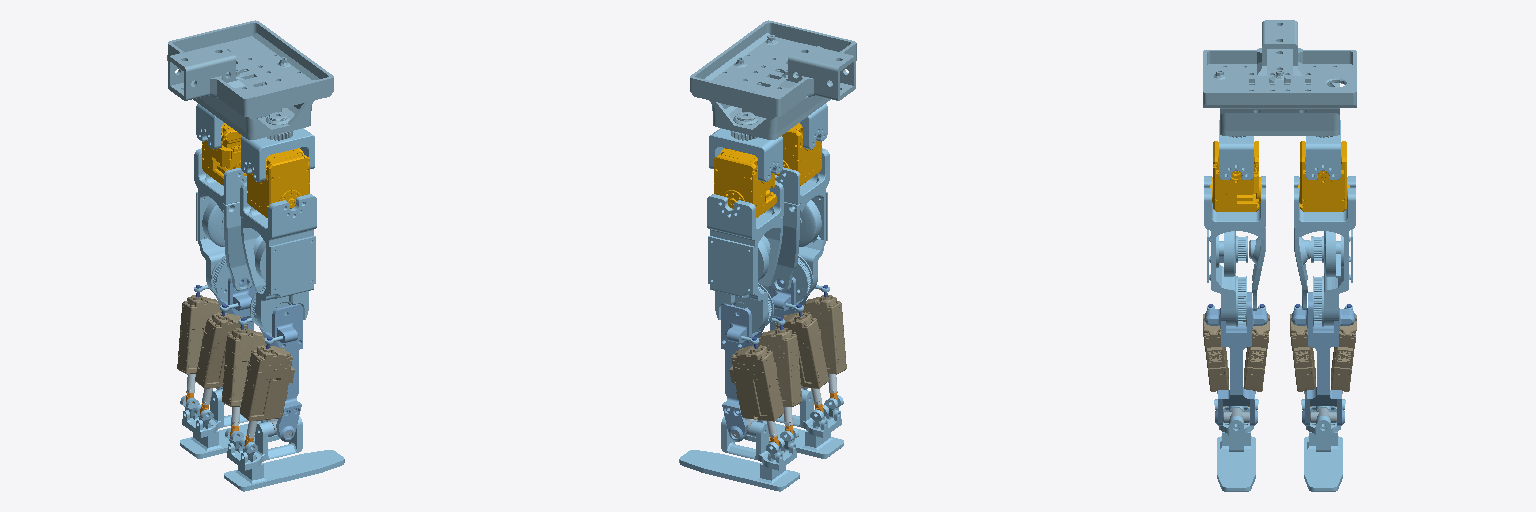
--- Facts derived from the render (not from the file) ---
3 views of the same robot in one strip: view 1: azimuth 30°, elevation 25°; view 2: azimuth 150°, elevation 25°; view 3: azimuth 270°, elevation 25° (orthographic).
Robot: base_legs — 38 links, 37 joints (32 revolute, 4 prismatic, 1 fixed); root link base_link; default pose: every joint at zero.
Links seen in each view (by area): view 1: hip_link, right_hip_pitch_link, left_hip_pitch_link, ank_roll_link_2, 12lf_4, hip_roll_link_2, right_calf_link, ank_roll_link, 12lf_2, 12lf_3, 12lf, hip_yaw_link_2 (+3 smaller); view 2: hip_link, left_hip_pitch_link, right_hip_pitch_link, ank_roll_link, 12lf, hip_roll_link, left_calf_link, ank_roll_link_2, 12lf_3, 12lf_2, 12lf_4, hip_yaw_link (+3 smaller); view 3: hip_link, left_hip_pitch_link, right_hip_pitch_link, left_calf_link, right_calf_link, ank_roll_link, ank_roll_link_2, hip_roll_link, hip_roll_link_2, hip_yaw_link_2, hip_yaw_link, 12lf_2 (+3 smaller).
Link boxes in pixels (left/top/right/bottom): hip_link: left=167, top=20, right=333, bottom=140; right_hip_pitch_link: left=240, top=182, right=316, bottom=333; left_hip_pitch_link: left=194, top=148, right=252, bottom=302; ank_roll_link_2: left=224, top=416, right=344, bottom=491; 12lf_4: left=240, top=345, right=294, bottom=421; hip_roll_link_2: left=247, top=148, right=309, bottom=217; right_calf_link: left=259, top=304, right=302, bottom=441; ank_roll_link: left=180, top=389, right=279, bottom=458; 12lf_2: left=195, top=312, right=247, bottom=388; 12lf_3: left=222, top=327, right=266, bottom=406; 12lf: left=177, top=295, right=221, bottom=374; hip_yaw_link_2: left=241, top=128, right=314, bottom=181; hip_link: left=690, top=20, right=856, bottom=140; left_hip_pitch_link: left=707, top=182, right=783, bottom=333; right_hip_pitch_link: left=771, top=148, right=829, bottom=302; ank_roll_link: left=679, top=416, right=799, bottom=491; 12lf: left=729, top=345, right=783, bottom=421; hip_roll_link: left=714, top=148, right=776, bottom=217; left_calf_link: left=721, top=304, right=764, bottom=441; ank_roll_link_2: left=744, top=389, right=843, bottom=458; 12lf_3: left=776, top=312, right=828, bottom=388; 12lf_2: left=757, top=327, right=801, bottom=406; 12lf_4: left=802, top=295, right=846, bottom=374; hip_yaw_link: left=709, top=128, right=782, bottom=181; hip_link: left=1203, top=20, right=1356, bottom=137; left_hip_pitch_link: left=1294, top=176, right=1355, bottom=326; right_hip_pitch_link: left=1204, top=176, right=1265, bottom=326; left_calf_link: left=1292, top=292, right=1354, bottom=425; right_calf_link: left=1205, top=292, right=1267, bottom=425; ank_roll_link: left=1304, top=406, right=1342, bottom=491; ank_roll_link_2: left=1217, top=406, right=1255, bottom=491; hip_roll_link: left=1298, top=141, right=1349, bottom=211; hip_roll_link_2: left=1210, top=141, right=1261, bottom=211; hip_yaw_link_2: left=1219, top=120, right=1253, bottom=179; hip_yaw_link: left=1306, top=120, right=1340, bottom=179; 12lf_2: left=1290, top=314, right=1315, bottom=391.
Size in the robot's own frame: 0.1234 by 0.1208 by 0.3493 metres.
Meshes: 37 distinct files referenced, 37 mesh visuals loaded (37 binary STL).

The robot description file, URDF, robot "base_legs":
<robot name="base_legs">  
  <mujoco><compiler strippath="false" balanceinertia="true" discardvisual="false" /></mujoco><link name="base_link" />  
  <joint name="base_link_to_base" type="fixed">    
    <parent link="base_link" />    
    <child link="hip_link" />    
    <origin rpy="0.0 0 0" xyz="0 0 0" />    
  </joint>  
  <link name="hip_link">    
    <visual>      
      <origin xyz="0 0 0" rpy="0 -0 0" />      
      <geometry>        
        <mesh filename="../assemblies/no_body/meshes/hip_link_visual.stl" />        
      </geometry>      
      <material name="hip_link_material">        
        <color rgba="0.60265235106909242901 0.7475818661971369572 0.82292492068132760963 1.0" />        
      </material>      
    </visual>    
    <collision>      
      <origin xyz="0 0 0" rpy="0 -0 0" />      
      <geometry>        
        <mesh filename="../assemblies/no_body/meshes/hip_link_collision.stl" />        
      </geometry>      
    </collision>    
    <inertial>      
      <origin xyz="-0.01440352333151279085 -0.00023164401215059715849 0.31153288519557342795" rpy="0 0 0" />      
      <mass value="0.1326329205818372603" />      
      <inertia ixx="0.00012163093315383989741" ixy="1.4038303149257438203e-07" ixz="1.0872278951925664343e-05" iyy="8.4970137932102799945e-05" iyz="3.874082128926956186e-07" izz="0.00015647103471607302027" />      
    </inertial>    
  </link>  

  <joint name="left_hip_yaw" type="revolute">    
    <origin xyz="-0.0063999999999997730579 0.033999999999999780398 0.28550000000000019806" rpy="1.2173498077223837207e-16 -0 1.3877787807345010561e-17" />    
    <parent link="hip_link" />    
    <child link="hip_yaw_link" />    
    <axis xyz="0 0 1" />    
    <limit effort="1" velocity="20" lower="-1.570796326794896558" upper="1.570796326794896558" />    
    <joint_properties friction="0.0" />    
  </joint>  

  <joint name="right_hip_yaw" type="revolute">    
    <origin xyz="-0.0063999999999996715766 -0.034000000000000092648 0.28550000000000014255" rpy="1.2173498077030393722e-16 -4.683327753701002654e-30 2.5887568767631957634e-14" />    
    <parent link="hip_link" />    
    <child link="hip_yaw_link_2" />    
    <axis xyz="0 0 1" />    
    <limit effort="1" velocity="20" lower="-1.570796326794896558" upper="1.570796326794896558" />    
    <joint_properties friction="0.0" />    
  </joint>  


<link name="hip_yaw_link">    
    <visual>      
      <origin xyz="0 0 0" rpy="0 -0 0" />      
      <geometry>        
        <mesh filename="../assemblies/left_3R+RH5_leg/meshes/left_hip_yaw_link_visual.stl" />        
      </geometry>      
      <material name="hip_yaw_link_material">        
        <color rgba="0.61568627450980395466 0.81176470588235294379 0.92941176470588238168 1.0" />        
      </material>      
    </visual>    
    <collision>      
      <origin xyz="0 0 0" rpy="0 -0 0" />      
      <geometry>        
        <mesh filename="../assemblies/left_3R+RH5_leg/meshes/left_hip_yaw_link_collision.stl" />        
      </geometry>      
    </collision>    
    <inertial>      
      <origin xyz="-5.5101789230161932459e-19 -4.987496519892330868e-19 -0.0098390489054830127663" rpy="0 0 0" />      
      <mass value="0.0090258837370979175946" />      
      <inertia ixx="1.3230458239086465149e-06" ixy="-3.3592249637948231893e-24" ixz="-1.1251788840973426872e-52" iyy="3.8408510960331422723e-06" iyz="2.3044956050358332095e-34" izz="3.8721396285793907821e-06" />      
    </inertial>    
  </link>  

  <link name="hip_roll_link">    
    <visual>      
      <origin xyz="0 0 0" rpy="0 -0 0" />      
      <geometry>        
        <mesh filename="../assemblies/left_3R+RH5_leg/meshes/left_hip_roll_link_visual.stl" />        
      </geometry>      
      <material name="hip_roll_link_material">        
        <color rgba="0.95018735644455865064 0.70678927200428420807 0.061612079402596699185 1.0" />        
      </material>      
    </visual>    
    <collision>      
      <origin xyz="0 0 0" rpy="0 -0 0" />      
      <geometry>        
        <mesh filename="../assemblies/left_3R+RH5_leg/meshes/left_hip_roll_link_collision.stl" />        
      </geometry>      
    </collision>    
    <inertial>      
      <origin xyz="-0.012000151133960529001 -0.00049588831385038068152 -0.018504019244504718578" rpy="0 0 0" />      
      <mass value="0.098012391483528679692" />      
      <inertia ixx="2.0221748766306297228e-05" ixy="-4.1552068244097566575e-08" ixz="-4.1225592188060038692e-08" iyy="2.7358099958307017163e-05" iyz="-5.0935731752381958541e-07" izz="2.7358069524722873844e-05" />      
    </inertial>    
  </link>  

  <link name="left_hip_pitch_link">    
    <visual>      
      <origin xyz="0 0 0" rpy="0 -0 0" />      
      <geometry>        
        <mesh filename="../assemblies/left_3R+RH5_leg/meshes/left_hip_pitch_link_visual.stl" />        
      </geometry>      
      <material name="left_hip_pitch_link_material">        
        <color rgba="0.61653602481865321661 0.80730351676089540103 0.92176401192624057845 1.0" />        
      </material>      
    </visual>    
    <collision>      
      <origin xyz="0 0 0" rpy="0 -0 0" />      
      <geometry>        
        <mesh filename="../assemblies/left_3R+RH5_leg/meshes/left_hip_pitch_link_collision.stl" />        
      </geometry>      
    </collision>    
    <inertial>      
      <origin xyz="-0.00021625089587036150818 0.053000240769318827938 0.014794279324098446454" rpy="0 0 0" />      
      <mass value="0.094115707917386950965" />      
      <inertia ixx="6.316384435944080993e-05" ixy="4.2226893167611225534e-07" ixz="-1.5236088146924364196e-07" iyy="2.1766716876463621921e-05" iyz="-1.4946539861164846195e-06" izz="6.2872441725695250685e-05" />      
    </inertial>    
  </link>  

  <link name="left_calf_link">    
    <visual>      
      <origin xyz="0 0 0" rpy="0 -0 0" />      
      <geometry>        
        <mesh filename="../assemblies/left_3R+RH5_leg/meshes/left_calf_link_visual.stl" />        
      </geometry>      
      <material name="left_calf_link_material">        
        <color rgba="0.55182138457441176627 0.7293668709690939167 0.87615813098181816176 1.0" />        
      </material>      
    </visual>    
    <collision>      
      <origin xyz="0 0 0" rpy="0 -0 0" />      
      <geometry>        
        <mesh filename="../assemblies/left_3R+RH5_leg/meshes/left_calf_link_collision.stl" />        
      </geometry>      
    </collision>    
    <inertial>      
      <origin xyz="-0.0038784319950641780832 -0.043110203474640458599 0.008168899779404440592" rpy="0 0 0" />      
      <mass value="0.016616268752102307527" />      
      <inertia ixx="1.5958212392253868486e-05" ixy="-2.2918088445891347294e-07" ixz="5.9921361723212020254e-09" iyy="2.0657945480054530971e-06" iyz="2.8475122223882865991e-08" izz="1.5100754419726926479e-05" />      
    </inertial>    
  </link>  

  <link name="ank_pitch_link">    
    <visual>      
      <origin xyz="0 0 0" rpy="0 -0 0" />      
      <geometry>        
        <mesh filename="../assemblies/left_3R+RH5_leg/meshes/left_ank_pitch_link_visual.stl" />        
      </geometry>      
      <material name="ank_pitch_link_material">        
        <color rgba="0.63189161126160275916 0.72668668793540891482 0.78356373393969258601 1.0" />        
      </material>      
    </visual>    
    <collision>      
      <origin xyz="0 0 0" rpy="0 -0 0" />      
      <geometry>        
        <mesh filename="../assemblies/left_3R+RH5_leg/meshes/left_ank_pitch_link_collision.stl" />        
      </geometry>      
    </collision>    
    <inertial>      
      <origin xyz="4.0269684924332414137e-08 0.00059528282566768985547 -0.014599922383890571662" rpy="0 0 0" />      
      <mass value="0.0042238381753791605713" />      
      <inertia ixx="4.3705254067379651325e-07" ixy="1.6834346513414585352e-13" ixz="1.6428822287382144103e-12" iyy="3.9782741364642033597e-07" iyz="2.0919268320923642454e-14" izz="8.8858574534542989745e-08" />      
    </inertial>    
  </link>  

  <link name="ank_roll_link">    
    <visual>      
      <origin xyz="0 0 0" rpy="0 -0 0" />      
      <geometry>        
        <mesh filename="../assemblies/left_3R+RH5_leg/meshes/left_ank_roll_link_visual.stl" />        
      </geometry>      
      <material name="ank_roll_link_material">        
        <color rgba="0.61568627450980395466 0.81176470588235294379 0.92941176470588238168 1.0" />        
      </material>      
    </visual>    
    <collision>      
      <origin xyz="0 0 0" rpy="0 -0 0" />      
      <geometry>        
        <mesh filename="../assemblies/left_3R+RH5_leg/meshes/left_ank_roll_link_collision.stl" />        
      </geometry>      
    </collision>    
    <inertial>      
      <origin xyz="-6.3661537538722950148e-10 0.027240102316353702328 0.0019830147448535399152" rpy="0 0 0" />      
      <mass value="0.013844478784760248444" />      
      <inertia ixx="1.0150902309234930825e-05" ixy="6.8603302694880716568e-14" ixz="-3.2605547317656671208e-13" iyy="8.66361166634314672e-06" iyz="-7.8151778926544794902e-07" izz="2.8991570356470334528e-06" />      
    </inertial>    
  </link>  

  <link name="ank_rr_link">    
    <visual>      
      <origin xyz="0 0 0" rpy="0 -0 0" />      
      <geometry>        
        <mesh filename="../assemblies/left_3R+RH5_leg/meshes/left_ank_rr_link_visual.stl" />        
      </geometry>      
      <material name="ank_rr_link_material">        
        <color rgba="0.61568627450980395466 0.81176470588235294379 0.92941176470588238168 1.0" />        
      </material>      
    </visual>    
    <collision>      
      <origin xyz="0 0 0" rpy="0 -0 0" />      
      <geometry>        
        <mesh filename="../assemblies/left_3R+RH5_leg/meshes/left_ank_rr_link_collision.stl" />        
      </geometry>      
    </collision>    
    <inertial>      
      <origin xyz="3.4593503690053823546e-05 0.0062999445222072123982 -0.0019000000000000060677" rpy="0 0 0" />      
      <mass value="0.00044289790445047673732" />      
      <inertia ixx="9.0894755004835240223e-09" ixy="-5.6689994077039805565e-11" ixz="1.0879024115046993894e-14" iyy="8.3785129146959889042e-09" iyz="9.5636730547090625513e-32" izz="1.3107013728801491474e-08" />      
    </inertial>    
  </link>  

  <link name="12lf_rod_end">    
    <visual>      
      <origin xyz="0 0 0" rpy="0 -0 0" />      
      <geometry>        
        <mesh filename="../assemblies/left_3R+RH5_leg/meshes/left_12lf_rod_end_visual.stl" />        
      </geometry>      
      <material name="12lf_rod_end_material">        
        <color rgba="0.92771758928836534075 0.61049283053223002415 0.2184765849058516729 1.0" />        
      </material>      
    </visual>    
    <collision>      
      <origin xyz="0 0 0" rpy="0 -0 0" />      
      <geometry>        
        <mesh filename="../assemblies/left_3R+RH5_leg/meshes/left_12lf_rod_end_collision.stl" />        
      </geometry>      
    </collision>    
    <inertial>      
      <origin xyz="-4.4735199263164480729e-11 0.0038422185938245998447 -0.0020064384187209387093" rpy="0 0 0" />      
      <mass value="0.00085420491177815905965" />      
      <inertia ixx="1.1840985264406780776e-08" ixy="-2.0225978109188480936e-16" ixz="9.2606420203077699125e-16" iyy="3.354962157679717301e-09" iyz="7.4535631381837453459e-12" izz="1.270352225441995511e-08" />      
    </inertial>    
  </link>  

  <joint name="left_ank_R21" type="revolute">    
    <origin xyz="0.0020999999999999977018 0.0099999999999998978595 -0.0018999999999999919731" rpy="-1.570796326794896558 1.427444247264781696 -1.5707963267949185404" />    
    <parent link="ank_rr_link" />    
    <child link="12lf_rod_end" />    
    <axis xyz="0 0 1" />    
    <limit effort="1" velocity="20" lower="-1.570796326794896558" upper="1.570796326794896558" />    
    <joint_properties friction="0.0" />    
  </joint>  

  <joint name="left_ank_R11" type="revolute">    
    <origin xyz="-0.010000000000000000208 0.01249999999999990008 -0.028000000000000010991" rpy="3.1415926535897775729 -1.2028245921984228645e-15 -0.10217761180348046424" />    
    <parent link="ank_roll_link" />    
    <child link="ank_rr_link" />    
    <axis xyz="0 0 1" />    
    <limit effort="1" velocity="20" lower="-1.570796326794896558" upper="1.570796326794896558" />    
    <joint_properties friction="0.0" />    
  </joint>  

  <link name="ank_rr_link_2">    
    <visual>      
      <origin xyz="0 0 0" rpy="0 -0 0" />      
      <geometry>        
        <mesh filename="../assemblies/left_3R+RH5_leg/meshes/left_ank_rr_link_2_visual.stl" />        
      </geometry>      
      <material name="ank_rr_link_2_material">        
        <color rgba="0.61568627450980395466 0.81176470588235294379 0.92941176470588238168 1.0" />        
      </material>      
    </visual>    
    <collision>      
      <origin xyz="0 0 0" rpy="0 -0 0" />      
      <geometry>        
        <mesh filename="../assemblies/left_3R+RH5_leg/meshes/left_ank_rr_link_2_collision.stl" />        
      </geometry>      
    </collision>    
    <inertial>      
      <origin xyz="3.4593503690046918534e-05 -0.0062999445222072132655 -0.0018999999999999986951" rpy="0 0 0" />      
      <mass value="0.00044289790445047673732" />      
      <inertia ixx="9.089475500483527331e-09" ixy="5.6689994077039857264e-11" ixz="-1.0879024115046995471e-14" iyy="8.3785129146959922129e-09" iyz="2.9873436245068874165e-33" izz="1.3107013728801491474e-08" />      
    </inertial>    
  </link>  

  <link name="12lf_rod_end_2">    
    <visual>      
      <origin xyz="0 0 0" rpy="0 -0 0" />      
      <geometry>        
        <mesh filename="../assemblies/left_3R+RH5_leg/meshes/left_12lf_rod_end_2_visual.stl" />        
      </geometry>      
      <material name="12lf_rod_end_2_material">        
        <color rgba="0.92771758928836534075 0.61049283053223002415 0.2184765849058516729 1.0" />        
      </material>      
    </visual>    
    <collision>      
      <origin xyz="0 0 0" rpy="0 -0 0" />      
      <geometry>        
        <mesh filename="../assemblies/left_3R+RH5_leg/meshes/left_12lf_rod_end_2_collision.stl" />        
      </geometry>      
    </collision>    
    <inertial>      
      <origin xyz="-4.4735203354349371173e-11 0.003842218593824546502 -0.0020064384187209456482" rpy="0 0 0" />      
      <mass value="0.00085420491177815905965" />      
      <inertia ixx="1.1840985264406787394e-08" ixy="-2.0225978433757152935e-16" ixz="9.2606419955770456148e-16" iyy="3.3549621576797272272e-09" iyz="7.453563138182895547e-12" izz="1.2703522254419979925e-08" />      
    </inertial>    
  </link>  

  <joint name="left_ank_R22" type="revolute">    
    <origin xyz="0.0020999999999999977018 -0.0099999999999999811262 -0.0018999999999999919731" rpy="-1.570796326794896558 -1.4274442651028091955 -1.5707963267949247577" />    
    <parent link="ank_rr_link_2" />    
    <child link="12lf_rod_end_2" />    
    <axis xyz="0 0 1" />    
    <limit effort="1" velocity="20" lower="-1.570796326794896558" upper="1.570796326794896558" />    
    <joint_properties friction="0.0" />    
  </joint>  

  <joint name="left_ank_R12" type="revolute">    
    <origin xyz="0.010000000000000001943 0.012499999999999955591 -0.028000000000000004052" rpy="3.1415926535897895633 4.4869794467973275651e-15 -3.0395375511758455644" />    
    <parent link="ank_roll_link" />    
    <child link="ank_rr_link_2" />    
    <axis xyz="0 0 1" />    
    <limit effort="1" velocity="20" lower="-1.570796326794896558" upper="1.570796326794896558" />    
    <joint_properties friction="0.0" />    
  </joint>  

  <joint name="left_ank_roll" type="revolute">    
    <origin xyz="3.8857805861880478915e-16 -0.0060999999999999795705 -0.014599999999999386038" rpy="-1.5707963267948443775 -1.5707963267947531172 0" />    
    <parent link="ank_pitch_link" />    
    <child link="ank_roll_link" />    
    <axis xyz="0 0 1" />    
    <limit effort="1" velocity="20" lower="-1.570796326794896558" upper="1.570796326794896558" />    
    <joint_properties friction="0.0" />    
  </joint>  

  <joint name="left_ank_pitch" type="revolute">    
    <origin xyz="1.423878333410664658e-18 -0.10000000000000000555 -0.0061999999999999989148" rpy="-3.1415926535897842342 8.6597395925459892621e-15 -1.5707963267949183184" />    
    <parent link="left_calf_link" />    
    <child link="ank_pitch_link" />    
    <axis xyz="0 0 1" />    
    <limit effort="1" velocity="20" lower="-1.570796326794896558" upper="1.570796326794896558" />    
    <joint_properties friction="0.0" />    
  </joint>  

  <link name="ball_joint_container">    
    <visual>      
      <origin xyz="0 0 0" rpy="0 -0 0" />      
      <geometry>        
        <mesh filename="../assemblies/left_3R+RH5_leg/meshes/left_ball_joint_container_visual.stl" />        
      </geometry>      
      <material name="ball_joint_container_material">        
        <color rgba="0.61568627450980395466 0.81176470588235294379 0.92941176470588238168 1.0" />        
      </material>      
    </visual>    
    <collision>      
      <origin xyz="0 0 0" rpy="0 -0 0" />      
      <geometry>        
        <mesh filename="../assemblies/left_3R+RH5_leg/meshes/left_ball_joint_container_collision.stl" />        
      </geometry>      
    </collision>    
    <inertial>      
      <origin xyz="4.7221442975711524242e-19 2.7634000224781994773e-17 -0.0097125341669083431473" rpy="0 0 0" />      
      <mass value="4.803735642533054869e-05" />      
      <inertia ixx="7.1865480628741666366e-10" ixy="2.2082883359209331434e-26" ixz="-6.7686126584238005107e-39" iyy="8.475420427718555978e-10" iyz="4.0476499960716035532e-39" izz="1.8625314111651911712e-10" />      
    </inertial>    
  </link>  

  <link name="ball_joint_ball">    
    <visual>      
      <origin xyz="0 0 0" rpy="0 -0 0" />      
      <geometry>        
        <mesh filename="../assemblies/left_3R+RH5_leg/meshes/left_ball_joint_ball_visual.stl" />        
      </geometry>      
      <material name="ball_joint_ball_material">        
        <color rgba="0.3291302810242056065 0.44310466418644928188 0.69204871161977121741 1.0" />        
      </material>      
    </visual>    
    <collision>      
      <origin xyz="0 0 0" rpy="0 -0 0" />      
      <geometry>        
        <mesh filename="../assemblies/left_3R+RH5_leg/meshes/left_ball_joint_ball_collision.stl" />        
      </geometry>      
    </collision>    
    <inertial>      
      <origin xyz="-3.5282352022158340034e-17 -0.0010308669810015907986 3.4484745656648436569e-20" rpy="0 0 0" />      
      <mass value="4.4053796295264630609e-05" />      
      <inertia ixx="3.1285011349692468636e-10" ixy="1.1835109023980632545e-25" ixz="1.2294513601043791409e-24" iyy="6.2569568612794312656e-11" iyz="-1.4479264606251061365e-24" izz="3.1285321460375216736e-10" />      
    </inertial>    
  </link>  

  <link name="12lf">    
    <visual>      
      <origin xyz="0 0 0" rpy="0 -0 0" />      
      <geometry>        
        <mesh filename="../assemblies/left_3R+RH5_leg/meshes/left_12lf_visual.stl" />        
      </geometry>      
      <material name="12lf_material">        
        <color rgba="0.62004392100736027693 0.58836684613512635345 0.49897069021535678246 1.0" />        
      </material>      
    </visual>    
    <collision>      
      <origin xyz="0 0 0" rpy="0 -0 0" />      
      <geometry>        
        <mesh filename="../assemblies/left_3R+RH5_leg/meshes/left_12lf_collision.stl" />        
      </geometry>      
    </collision>    
    <inertial>      
      <origin xyz="0.0049084207243747877275 -0.00013802439943545668035 -0.02994700357716128386" rpy="0 0 0" />      
      <mass value="0.044782197696050352054" />      
      <inertia ixx="1.5260128421323247559e-05" ixy="2.2955773687025559146e-08" ixz="-8.1364204003970836231e-08" iyy="1.8188469778964219811e-05" iyz="-5.5542240843071426163e-08" izz="5.1496273901760187844e-06" />      
    </inertial>    
  </link>  

  <link name="12lf_rod">    
    <visual>      
      <origin xyz="0 0 0" rpy="0 -0 0" />      
      <geometry>        
        <mesh filename="../assemblies/left_3R+RH5_leg/meshes/left_12lf_rod_visual.stl" />        
      </geometry>      
      <material name="12lf_rod_material">        
        <color rgba="0.80250260812861884396 0.89340612183512713163 0.94491811293548189088 1.0" />        
      </material>      
    </visual>    
    <collision>      
      <origin xyz="0 0 0" rpy="0 -0 0" />      
      <geometry>        
        <mesh filename="../assemblies/left_3R+RH5_leg/meshes/left_12lf_rod_collision.stl" />        
      </geometry>      
    </collision>    
    <inertial>      
      <origin xyz="-6.3222084040519468352e-07 4.6933255299399133793e-07 -0.012893387334328583124" rpy="0 0 0" />      
      <mass value="0.0025088292483592140175" />      
      <inertia ixx="2.6944521128622689806e-07" ixy="7.1389570311739639531e-15" ixz="1.3562243134246940151e-11" iyy="2.694452000167924539e-07" iyz="-1.0089988419950412744e-11" izz="1.7809843599861032107e-08" />      
    </inertial>    
  </link>  

  <joint name="left_ank_act1" type="prismatic">    
    <origin xyz="2.2722093549316056682e-06 9.9920072216264088638e-16 -0.072674213012071053885" rpy="-3.1415926535896594451 9.2998178113314070509e-14 -2.2021168238262620598" />    
    <parent link="12lf" />    
    <child link="12lf_rod" />    
    <axis xyz="0 0 1" />    
    <limit effort="1" velocity="20" lower="0" upper="0.040000000000000000833" />    
    <joint_properties friction="0.0" />    
  </joint>  

  <joint name="left_ank_B31" type="revolute">    
    <origin xyz="-8.0794745893619790422e-16 -0.0064387505004003531273 0" rpy="-1.5707963267948918951 -0.0053985248584601302699 -5.6469137085305582343e-15" />    
    <parent link="ball_joint_ball" />    
    <child link="12lf" />    
    <axis xyz="0 0 1" />    
    <limit effort="1" velocity="20" lower="-0.785398163397448279" upper="0.785398163397448279" />    
    <joint_properties friction="0.0" />    
  </joint>  

  <joint name="left_ank_B21" type="revolute">    
    <origin xyz="0 2.7755575615628913511e-17 -0.01150000000000000154" rpy="1.570796326794896558 -1.4274442472644790492 1.5707963267949169861" />    
    <parent link="ball_joint_container" />    
    <child link="ball_joint_ball" />    
    <axis xyz="0 0 1" />    
    <limit effort="1" velocity="20" lower="-0.785398163397448279" upper="0.785398163397448279" />    
    <joint_properties friction="0.0" />    
  </joint>  

  <joint name="left_ank_B11" type="revolute">    
    <origin xyz="0.0079999999999999966971 -0.015000000000000068834 0.028299999999999995298" rpy="-1.5707963267948998887 1.4686187149912932615 1.5707963267948792385" />    
    <parent link="left_calf_link" />    
    <child link="ball_joint_container" />    
    <axis xyz="0 0 1" />    
    <limit effort="1" velocity="20" lower="-0.785398163397448279" upper="0.785398163397448279" />    
    <joint_properties friction="0.0" />    
  </joint>  

  <link name="ball_joint_container_2">    
    <visual>      
      <origin xyz="0 0 0" rpy="0 -0 0" />      
      <geometry>        
        <mesh filename="../assemblies/left_3R+RH5_leg/meshes/left_ball_joint_container_2_visual.stl" />        
      </geometry>      
      <material name="ball_joint_container_2_material">        
        <color rgba="0.61568627450980395466 0.81176470588235294379 0.92941176470588238168 1.0" />        
      </material>      
    </visual>    
    <collision>      
      <origin xyz="0 0 0" rpy="0 -0 0" />      
      <geometry>        
        <mesh filename="../assemblies/left_3R+RH5_leg/meshes/left_ball_joint_container_2_collision.stl" />        
      </geometry>      
    </collision>    
    <inertial>      
      <origin xyz="7.4111083336642996126e-18 -1.2157539084692978797e-19 -0.0097125341669083414126" rpy="0 0 0" />      
      <mass value="4.803735642533054869e-05" />      
      <inertia ixx="7.1865480628741666366e-10" ixy="1.7106140620783207512e-26" ixz="-2.370982448080810868e-39" iyy="8.475420427718555978e-10" iyz="-2.1088730165263217349e-39" izz="1.8625314111651911712e-10" />      
    </inertial>    
  </link>  

  <link name="ball_joint_ball_2">    
    <visual>      
      <origin xyz="0 0 0" rpy="0 -0 0" />      
      <geometry>        
        <mesh filename="../assemblies/left_3R+RH5_leg/meshes/left_ball_joint_ball_2_visual.stl" />        
      </geometry>      
      <material name="ball_joint_ball_2_material">        
        <color rgba="0.3291302810242056065 0.44310466418644928188 0.69204871161977121741 1.0" />        
      </material>      
    </visual>    
    <collision>      
      <origin xyz="0 0 0" rpy="0 -0 0" />      
      <geometry>        
        <mesh filename="../assemblies/left_3R+RH5_leg/meshes/left_ball_joint_ball_2_collision.stl" />        
      </geometry>      
    </collision>    
    <inertial>      
      <origin xyz="-3.8652799292757674415e-18 -0.0010308669810016077122 3.2017676601678189468e-20" rpy="0 0 0" />      
      <mass value="4.4053796295264630609e-05" />      
      <inertia ixx="3.1285011349692153273e-10" ixy="-5.4813875806817626912e-27" ixz="-5.586774544550461194e-26" iyy="6.2569568612794881343e-11" iyz="3.2615028123775678149e-25" izz="3.1285321460376069766e-10" />      
    </inertial>    
  </link>  

  <link name="12lf_2">    
    <visual>      
      <origin xyz="0 0 0" rpy="0 -0 0" />      
      <geometry>        
        <mesh filename="../assemblies/left_3R+RH5_leg/meshes/left_12lf_2_visual.stl" />        
      </geometry>      
      <material name="12lf_2_material">        
        <color rgba="0.62004392100736005489 0.58836684613512635345 0.49897069021535678246 1.0" />        
      </material>      
    </visual>    
    <collision>      
      <origin xyz="0 0 0" rpy="0 -0 0" />      
      <geometry>        
        <mesh filename="../assemblies/left_3R+RH5_leg/meshes/left_12lf_2_collision.stl" />        
      </geometry>      
    </collision>    
    <inertial>      
      <origin xyz="0.0049084207243677924551 -0.00013802439943763140017 -0.029947003577159750365" rpy="0 0 0" />      
      <mass value="0.044782197696050352054" />      
      <inertia ixx="1.5260128421322254836e-05" ixy="2.2955773686926383499e-08" ixz="-8.1364204006927047391e-08" iyy="1.8188469778964612834e-05" iyz="-5.5542240844196491057e-08" izz="5.1496273901774545053e-06" />      
    </inertial>    
  </link>  

  <link name="12lf_rod_2">    
    <visual>      
      <origin xyz="0 0 0" rpy="0 -0 0" />      
      <geometry>        
        <mesh filename="../assemblies/left_3R+RH5_leg/meshes/left_12lf_rod_2_visual.stl" />        
      </geometry>      
      <material name="12lf_rod_2_material">        
        <color rgba="0.80250260812861884396 0.89340612183512713163 0.94491811293548189088 1.0" />        
      </material>      
    </visual>    
    <collision>      
      <origin xyz="0 0 0" rpy="0 -0 0" />      
      <geometry>        
        <mesh filename="../assemblies/left_3R+RH5_leg/meshes/left_12lf_rod_2_collision.stl" />        
      </geometry>      
    </collision>    
    <inertial>      
      <origin xyz="-6.3222083693631249078e-07 4.6933255239442584248e-07 -0.012893387334329466098" rpy="0 0 0" />      
      <mass value="0.0025088292483592140175" />      
      <inertia ixx="2.694452112861764996e-07" ixy="7.1389570082051159166e-15" ixz="1.3562243032822788726e-11" iyy="2.6944520001674194956e-07" iyz="-1.0089988402347216056e-11" izz="1.7809843599861002329e-08" />      
    </inertial>    
  </link>  

  <joint name="left_ank_act2" type="prismatic">    
    <origin xyz="2.2722093494268943981e-06 -6.6960326172704753844e-15 -0.072674224000365938991" rpy="-3.1415926535895000171 6.1912461081019981423e-14 -2.2021168238262793793" />    
    <parent link="12lf_2" />    
    <child link="12lf_rod_2" />    
    <axis xyz="0 0 1" />    
    <limit effort="1" velocity="20" lower="0" upper="0.040000000000000000833" />    
    <joint_properties friction="0.0" />    
  </joint>  

  <joint name="left_ank_B32" type="revolute">    
    <origin xyz="-1.8214596497756474491e-17 -0.0064387505004002976161 0" rpy="-1.570796326794896558 -0.0053985248584149493969 -1.0409444774216770496e-15" />    
    <parent link="ball_joint_ball_2" />    
    <child link="12lf_2" />    
    <axis xyz="0 0 1" />    
    <limit effort="1" velocity="20" lower="-0.785398163397448279" upper="0.785398163397448279" />    
    <joint_properties friction="0.0" />    
  </joint>  

  <joint name="left_ank_B22" type="revolute">    
    <origin xyz="6.9388939039072283776e-18 0 -0.011500000000000003275" rpy="1.570796326794896558 -1.4274442651030925244 -1.5707963267949058839" />    
    <parent link="ball_joint_container_2" />    
    <child link="ball_joint_ball_2" />    
    <axis xyz="0 0 1" />    
    <limit effort="1" velocity="20" lower="-0.785398163397448279" upper="0.785398163397448279" />    
    <joint_properties friction="0.0" />    
  </joint>  

  <joint name="left_ank_B12" type="revolute">    
    <origin xyz="0.0080000000000000019013 -0.015000000000000013323 -0.011499999999999996336" rpy="-1.570796326794896558 -1.4687412243796080791 1.5707963267949098807" />    
    <parent link="left_calf_link" />    
    <child link="ball_joint_container_2" />    
    <axis xyz="0 0 1" />    
    <limit effort="1" velocity="20" lower="-0.785398163397448279" upper="0.785398163397448279" />    
    <joint_properties friction="0.0" />    
  </joint>  

  <joint name="left_knee" type="revolute">    
    <origin xyz="-3.1353220349901300315e-15 0.095999999999999724443 0.027399999999999993805" rpy="-3.1415926535897926719 -2.5420496495350503733e-17 4.2811095712787448488e-16" />    
    <parent link="left_hip_pitch_link" />    
    <child link="left_calf_link" />    
    <axis xyz="0 0 1" />    
    <limit effort="1" velocity="20" lower="-1.570796326794896558" upper="2.2689280275926284602" />    
    <joint_properties friction="0.0" />    
  </joint>  

  <joint name="left_hip_pitch" type="revolute">    
    <origin xyz="-0.024000000716150882152 -0.019000000152441572782 -0.019000000152448091872" rpy="-1.5707963267945472818 1.5707963267948001906 0" />    
    <parent link="hip_roll_link" />    
    <child link="left_hip_pitch_link" />    
    <axis xyz="0 0 1" />    
    <limit effort="1" velocity="20" lower="-1.570796326794896558" upper="1.570796326794896558" />    
    <joint_properties friction="0.0" />    
  </joint>  

  <joint name="left_hip_roll" type="revolute">    
    <origin xyz="0.019000000000000304839 -3.3624037938353715663e-18 -0.026000000000000279832" rpy="3.141592653589793116 -1.5707963267948512609 0" />    
    <parent link="hip_yaw_link" />    
    <child link="hip_roll_link" />    
    <axis xyz="0 0 1" />    
    <limit effort="1" velocity="20" lower="-1.570796326794896558" upper="1.570796326794896558" />    
    <joint_properties friction="0.0" />    
  </joint>  


<link name="hip_yaw_link_2">    
    <visual>      
      <origin xyz="0 0 0" rpy="0 -0 0" />      
      <geometry>        
        <mesh filename="../assemblies/right_3R+RH5_leg/meshes/right_hip_yaw_link_visual.stl" />        
      </geometry>      
      <material name="hip_yaw_link_material">        
        <color rgba="0.61568627450980395466 0.81176470588235294379 0.92941176470588238168 1.0" />        
      </material>      
    </visual>    
    <collision>      
      <origin xyz="0 0 0" rpy="0 -0 0" />      
      <geometry>        
        <mesh filename="../assemblies/right_3R+RH5_leg/meshes/right_hip_yaw_link_collision.stl" />        
      </geometry>      
    </collision>    
    <inertial>      
      <origin xyz="-5.510178923048878203e-19 -4.987496519704591217e-19 -0.0098390489054829086829" rpy="0 0 0" />      
      <mass value="0.0090258837370979175946" />      
      <inertia ixx="1.3230458239085876461e-06" ixy="-6.4778545919079861077e-49" ixz="1.7322911775161985632e-33" iyy="3.8408510960330541809e-06" iyz="-1.4482241779965781819e-32" izz="3.8721396285793077728e-06" />      
    </inertial>    
  </link>  

  <link name="hip_roll_link_2">    
    <visual>      
      <origin xyz="0 0 0" rpy="0 -0 0" />      
      <geometry>        
        <mesh filename="../assemblies/right_3R+RH5_leg/meshes/right_hip_roll_link_visual.stl" />        
      </geometry>      
      <material name="hip_roll_link_material">        
        <color rgba="0.95018735644455853961 0.70678927200428420807 0.061612079402596685307 1.0" />        
      </material>      
    </visual>    
    <collision>      
      <origin xyz="0 0 0" rpy="0 -0 0" />      
      <geometry>        
        <mesh filename="../assemblies/right_3R+RH5_leg/meshes/right_hip_roll_link_collision.stl" />        
      </geometry>      
    </collision>    
    <inertial>      
      <origin xyz="-0.012000151133960919314 -0.00049588831385676847546 -0.018504019244507452502" rpy="0 0 0" />      
      <mass value="0.09801239148352869357" />      
      <inertia ixx="2.0221748766307408535e-05" ixy="-4.1552068245398715061e-08" ixz="-4.1225592188036487205e-08" iyy="2.7358099958307688013e-05" iyz="-5.0935731752404828431e-07" izz="2.7358069524724229097e-05" />      
    </inertial>    
  </link>  

  <link name="right_hip_pitch_link">    
    <visual>      
      <origin xyz="0 0 0" rpy="0 -0 0" />      
      <geometry>        
        <mesh filename="../assemblies/right_3R+RH5_leg/meshes/right_hip_pitch_link_visual.stl" />        
      </geometry>      
      <material name="right_hip_pitch_link_material">        
        <color rgba="0.61653602500441606615 0.80730351578563952497 0.92176401025437348924 1.0" />        
      </material>      
    </visual>    
    <collision>      
      <origin xyz="0 0 0" rpy="0 -0 0" />      
      <geometry>        
        <mesh filename="../assemblies/right_3R+RH5_leg/meshes/right_hip_pitch_link_collision.stl" />        
      </geometry>      
    </collision>    
    <inertial>      
      <origin xyz="-1.4736411322153065889e-05 0.053000236016731046285 0.014794280397379757502" rpy="0 0 0" />      
      <mass value="0.094115687342860077091" />      
      <inertia ixx="6.3163835686947151387e-05" ixy="-2.2047071660339153482e-07" ixz="-1.2737388563441184458e-08" iyy="2.1771096480162823193e-05" iyz="-1.4946567837312502088e-06" izz="6.287681122623721224e-05" />      
    </inertial>    
  </link>  

  <link name="right_calf_link">    
    <visual>      
      <origin xyz="0 0 0" rpy="0 -0 0" />      
      <geometry>        
        <mesh filename="../assemblies/right_3R+RH5_leg/meshes/right_calf_link_visual.stl" />        
      </geometry>      
      <material name="right_calf_link_material">        
        <color rgba="0.55182153444277581844 0.72936705907288057471 0.87615824804808439819 1.0" />        
      </material>      
    </visual>    
    <collision>      
      <origin xyz="0 0 0" rpy="0 -0 0" />      
      <geometry>        
        <mesh filename="../assemblies/right_3R+RH5_leg/meshes/right_calf_link_collision.stl" />        
      </geometry>      
    </collision>    
    <inertial>      
      <origin xyz="-0.0038784271883378156585 0.043110179744828905357 0.0081688793093392352007" rpy="0 0 0" />      
      <mass value="0.016616299594005391055" />      
      <inertia ixx="1.5958223723938059054e-05" ixy="2.2918216583122541662e-07" ixz="5.9933409326354422155e-09" iyy="2.0657984790181373815e-06" iyz="-2.8480740343858780691e-08" izz="1.5100763145605022869e-05" />      
    </inertial>    
  </link>  

  <link name="ank_pitch_link_2">    
    <visual>      
      <origin xyz="0 0 0" rpy="0 -0 0" />      
      <geometry>        
        <mesh filename="../assemblies/right_3R+RH5_leg/meshes/right_ank_pitch_link_visual.stl" />        
      </geometry>      
      <material name="ank_pitch_link_material">        
        <color rgba="0.63189161126160275916 0.72668668793540891482 0.78356373393969258601 1.0" />        
      </material>      
    </visual>    
    <collision>      
      <origin xyz="0 0 0" rpy="0 -0 0" />      
      <geometry>        
        <mesh filename="../assemblies/right_3R+RH5_leg/meshes/right_ank_pitch_link_collision.stl" />        
      </geometry>      
    </collision>    
    <inertial>      
      <origin xyz="4.0269687825142352267e-08 0.00059528282566478787994 -0.014599922383890177879" rpy="0 0 0" />      
      <mass value="0.0042238381753791605713" />      
      <inertia ixx="4.370525406738890516e-07" ixy="1.6834346645318040744e-13" ixz="1.6428822743379449777e-12" iyy="3.9782741364654707327e-07" iyz="2.0919211866995821085e-14" izz="8.8858574534508976078e-08" />      
    </inertial>    
  </link>  

  <link name="ank_roll_link_2">    
    <visual>      
      <origin xyz="0 0 0" rpy="0 -0 0" />      
      <geometry>        
        <mesh filename="../assemblies/right_3R+RH5_leg/meshes/right_ank_roll_link_visual.stl" />        
      </geometry>      
      <material name="ank_roll_link_material">        
        <color rgba="0.61568627450980395466 0.81176470588235294379 0.92941176470588238168 1.0" />        
      </material>      
    </visual>    
    <collision>      
      <origin xyz="0 0 0" rpy="0 -0 0" />      
      <geometry>        
        <mesh filename="../assemblies/right_3R+RH5_leg/meshes/right_ank_roll_link_collision.stl" />        
      </geometry>      
    </collision>    
    <inertial>      
      <origin xyz="-6.3661537448889067673e-10 0.027240102316353712736 0.0019830147448535412162" rpy="0 0 0" />      
      <mass value="0.013844478784760248444" />      
      <inertia ixx="1.0150902309234939295e-05" ixy="6.8603302694880868029e-14" ixz="-3.2605547317656671208e-13" iyy="8.66361166634314672e-06" iyz="-7.8151778926544996072e-07" izz="2.8991570356470419231e-06" />      
    </inertial>    
  </link>  

  <link name="ank_rr_link_3">    
    <visual>      
      <origin xyz="0 0 0" rpy="0 -0 0" />      
      <geometry>        
        <mesh filename="../assemblies/right_3R+RH5_leg/meshes/right_ank_rr_link_visual.stl" />        
      </geometry>      
      <material name="ank_rr_link_material">        
        <color rgba="0.61568627450980395466 0.81176470588235294379 0.92941176470588238168 1.0" />        
      </material>      
    </visual>    
    <collision>      
      <origin xyz="0 0 0" rpy="0 -0 0" />      
      <geometry>        
        <mesh filename="../assemblies/right_3R+RH5_leg/meshes/right_ank_rr_link_collision.stl" />        
      </geometry>      
    </collision>    
    <inertial>      
      <origin xyz="3.4593503690053721902e-05 0.0062999445222072123982 -0.0018999999999999991288" rpy="0 0 0" />      
      <mass value="0.00044289790445047673732" />      
      <inertia ixx="9.0894755004835306397e-09" ixy="-5.6689994077040238543e-11" ixz="1.0879024115046998627e-14" iyy="8.3785129146959889042e-09" iyz="-2.2791699818292878737e-31" izz="1.3107013728801491474e-08" />      
    </inertial>    
  </link>  

  <link name="12lf_rod_end_3">    
    <visual>      
      <origin xyz="0 0 0" rpy="0 -0 0" />      
      <geometry>        
        <mesh filename="../assemblies/right_3R+RH5_leg/meshes/right_12lf_rod_end_visual.stl" />        
      </geometry>      
      <material name="12lf_rod_end_material">        
        <color rgba="0.92771758928836534075 0.61049283053223002415 0.2184765849058516729 1.0" />        
      </material>      
    </visual>    
    <collision>      
      <origin xyz="0 0 0" rpy="0 -0 0" />      
      <geometry>        
        <mesh filename="../assemblies/right_3R+RH5_leg/meshes/right_12lf_rod_end_collision.stl" />        
      </geometry>      
    </collision>    
    <inertial>      
      <origin xyz="-4.4735193531056495841e-11 0.0038422185938246015795 -0.0020064384187209387093" rpy="0 0 0" />      
      <mass value="0.00085420491177815905965" />      
      <inertia ixx="1.1840985264406790703e-08" ixy="-2.0225977890592725469e-16" ixz="9.2606419958118382304e-16" iyy="3.3549621576797276408e-09" iyz="7.4535631381827210636e-12" izz="1.2703522254419981579e-08" />      
    </inertial>    
  </link>  

  <joint name="right_ank_R21" type="revolute">    
    <origin xyz="0.0020999999999992344235 0.010000000000000036637 -0.0019000000000000127898" rpy="-1.570796326794896558 1.4274442472646977631 -1.570796326794901665" />    
    <parent link="ank_rr_link_3" />    
    <child link="12lf_rod_end_3" />    
    <axis xyz="0 0 1" />    
    <limit effort="1" velocity="20" lower="-1.570796326794896558" upper="1.570796326794896558" />    
    <joint_properties friction="0.0" />    
  </joint>  

  <joint name="right_ank_R11" type="revolute">    
    <origin xyz="-0.010000000000000165007 0.012500000000000260902 -0.027999999999999313632" rpy="-3.1415926535897926719 -6.3673174173468030794e-17 -0.102177611803432003" />    
    <parent link="ank_roll_link_2" />    
    <child link="ank_rr_link_3" />    
    <axis xyz="0 0 1" />    
    <limit effort="1" velocity="20" lower="-1.570796326794896558" upper="1.570796326794896558" />    
    <joint_properties friction="0.0" />    
  </joint>  

  <link name="ank_rr_link_4">    
    <visual>      
      <origin xyz="0 0 0" rpy="0 -0 0" />      
      <geometry>        
        <mesh filename="../assemblies/right_3R+RH5_leg/meshes/right_ank_rr_link_2_visual.stl" />        
      </geometry>      
      <material name="ank_rr_link_2_material">        
        <color rgba="0.61568627450980395466 0.81176470588235294379 0.92941176470588238168 1.0" />        
      </material>      
    </visual>    
    <collision>      
      <origin xyz="0 0 0" rpy="0 -0 0" />      
      <geometry>        
        <mesh filename="../assemblies/right_3R+RH5_leg/meshes/right_ank_rr_link_2_collision.stl" />        
      </geometry>      
    </collision>    
    <inertial>      
      <origin xyz="3.4593503690053843875e-05 -0.006299944522207156887 -0.0018999999999999986951" rpy="0 0 0" />      
      <mass value="0.00044289790445047673732" />      
      <inertia ixx="9.089475500483527331e-09" ixy="5.6689994077039947737e-11" ixz="-1.0879024115046995471e-14" iyy="8.3785129146959889042e-09" iyz="-8.3643934089884858692e-32" izz="1.3107013728801491474e-08" />      
    </inertial>    
  </link>  

  <link name="12lf_rod_end_4">    
    <visual>      
      <origin xyz="0 0 0" rpy="0 -0 0" />      
      <geometry>        
        <mesh filename="../assemblies/right_3R+RH5_leg/meshes/right_12lf_rod_end_2_visual.stl" />        
      </geometry>      
      <material name="12lf_rod_end_2_material">        
        <color rgba="0.92771758928836534075 0.61049283053223013518 0.2184765849058516729 1.0" />        
      </material>      
    </visual>    
    <collision>      
      <origin xyz="0 0 0" rpy="0 -0 0" />      
      <geometry>        
        <mesh filename="../assemblies/right_3R+RH5_leg/meshes/right_12lf_rod_end_2_collision.stl" />        
      </geometry>      
    </collision>    
    <inertial>      
      <origin xyz="-4.4735191827234303275e-11 0.0038422185938245738239 -0.0020064384187209456482" rpy="0 0 0" />      
      <mass value="0.00085420491177815905965" />      
      <inertia ixx="1.1840985264406785739e-08" ixy="-2.022597816344526657e-16" ixz="9.2606419971116108173e-16" iyy="3.3549621576797264e-09" iyz="7.4535631381825174997e-12" izz="1.2703522254419979925e-08" />      
    </inertial>    
  </link>  

  <joint name="right_ank_R22" type="revolute">    
    <origin xyz="0.0021000000000000115796 -0.010000000000000008882 -0.001899999999999998912" rpy="-1.57079632679489678 -1.4274442651030334606 -1.5707963267948972241" />    
    <parent link="ank_rr_link_4" />    
    <child link="12lf_rod_end_4" />    
    <axis xyz="0 0 1" />    
    <limit effort="1" velocity="20" lower="-1.570796326794896558" upper="1.570796326794896558" />    
    <joint_properties friction="0.0" />    
  </joint>  

  <joint name="right_ank_R12" type="revolute">    
    <origin xyz="0.010000000000000003678 0.012499999999999983347 -0.028000000000000014461" rpy="3.141592653589793116 1.4948154307943495876e-16 -3.0395375511749724851" />    
    <parent link="ank_roll_link_2" />    
    <child link="ank_rr_link_4" />    
    <axis xyz="0 0 1" />    
    <limit effort="1" velocity="20" lower="-1.570796326794896558" upper="1.570796326794896558" />    
    <joint_properties friction="0.0" />    
  </joint>  

  <joint name="right_ank_roll" type="revolute">    
    <origin xyz="1.7763568394002504647e-15 -0.0061000000000006751946 -0.014600000000001986389" rpy="-1.5707963267949152097 1.5707963267947568919 0" />    
    <parent link="ank_pitch_link_2" />    
    <child link="ank_roll_link_2" />    
    <axis xyz="0 0 1" />    
    <limit effort="1" velocity="20" lower="-1.570796326794896558" upper="1.570796326794896558" />    
    <joint_properties friction="0.0" />    
  </joint>  

  <joint name="right_ank_pitch" type="revolute">    
    <origin xyz="6.9626594985130732316e-16 0.099999999999999644729 -0.006199999999999853198" rpy="-3.1415926535897891192 -1.0660034804367828672e-14 -1.5707963267948825692" />    
    <parent link="right_calf_link" />    
    <child link="ank_pitch_link_2" />    
    <axis xyz="0 0 1" />    
    <limit effort="1" velocity="20" lower="-1.570796326794896558" upper="1.570796326794896558" />    
    <joint_properties friction="0.0" />    
  </joint>  

  <link name="ball_joint_container_3">    
    <visual>      
      <origin xyz="0 0 0" rpy="0 -0 0" />      
      <geometry>        
        <mesh filename="../assemblies/right_3R+RH5_leg/meshes/right_ball_joint_container_visual.stl" />        
      </geometry>      
      <material name="ball_joint_container_material">        
        <color rgba="0.61568627450980395466 0.81176470588235294379 0.92941176470588238168 1.0" />        
      </material>      
    </visual>    
    <collision>      
      <origin xyz="0 0 0" rpy="0 -0 0" />      
      <geometry>        
        <mesh filename="../assemblies/right_3R+RH5_leg/meshes/right_ball_joint_container_collision.stl" />        
      </geometry>      
    </collision>    
    <inertial>      
      <origin xyz="4.7221442975713479061e-19 -1.2157539084691849721e-19 -0.0097125341669083414126" rpy="0 0 0" />      
      <mass value="4.803735642533054869e-05" />      
      <inertia ixx="7.1865480628741666366e-10" ixy="8.7468747923266868859e-27" ixz="-1.0147356603452870718e-38" iyy="8.475420427718555978e-10" iyz="5.4451688879992596442e-39" izz="1.8625314111651911712e-10" />      
    </inertial>    
  </link>  

  <link name="ball_joint_ball_3">    
    <visual>      
      <origin xyz="0 0 0" rpy="0 -0 0" />      
      <geometry>        
        <mesh filename="../assemblies/right_3R+RH5_leg/meshes/right_ball_joint_ball_visual.stl" />        
      </geometry>      
      <material name="ball_joint_ball_material">        
        <color rgba="0.3291302810242056065 0.44310466418644928188 0.69204871161977121741 1.0" />        
      </material>      
    </visual>    
    <collision>      
      <origin xyz="0 0 0" rpy="0 -0 0" />      
      <geometry>        
        <mesh filename="../assemblies/right_3R+RH5_leg/meshes/right_ball_joint_ball_collision.stl" />        
      </geometry>      
    </collision>    
    <inertial>      
      <origin xyz="2.2663090322936730893e-18 -0.0010308669810016072785 -1.2451330920679759834e-17" rpy="0 0 0" />      
      <mass value="4.4053796295264630609e-05" />      
      <inertia ixx="3.1285011349692391087e-10" ixy="9.0806338731792162566e-26" ixz="-1.4814569422744550504e-27" iyy="6.2569568612795540503e-11" iyz="-9.0725496754301873347e-26" izz="3.1285321460376255882e-10" />      
    </inertial>    
  </link>  

  <link name="12lf_3">    
    <visual>      
      <origin xyz="0 0 0" rpy="0 -0 0" />      
      <geometry>        
        <mesh filename="../assemblies/right_3R+RH5_leg/meshes/right_12lf_visual.stl" />        
      </geometry>      
      <material name="12lf_material">        
        <color rgba="0.62004392100736016591 0.58836684613512635345 0.49897069021535672695 1.0" />        
      </material>      
    </visual>    
    <collision>      
      <origin xyz="0 0 0" rpy="0 -0 0" />      
      <geometry>        
        <mesh filename="../assemblies/right_3R+RH5_leg/meshes/right_12lf_collision.stl" />        
      </geometry>      
    </collision>    
    <inertial>      
      <origin xyz="0.0049084207243671419338 -0.00013802439943487768929 -0.029947003577148141595" rpy="0 0 0" />      
      <mass value="0.044782197696050352054" />      
      <inertia ixx="1.5260128421313266122e-05" ixy="2.2955773686476771131e-08" ixz="-8.1364204007546559348e-08" iyy="1.8188469778952507039e-05" iyz="-5.5542240842735795975e-08" izz="5.14962739017425865e-06" />      
    </inertial>    
  </link>  

  <link name="12lf_rod_3">    
    <visual>      
      <origin xyz="0 0 0" rpy="0 -0 0" />      
      <geometry>        
        <mesh filename="../assemblies/right_3R+RH5_leg/meshes/right_12lf_rod_visual.stl" />        
      </geometry>      
      <material name="12lf_rod_material">        
        <color rgba="0.80250260812861884396 0.89340612183512713163 0.94491811293548189088 1.0" />        
      </material>      
    </visual>    
    <collision>      
      <origin xyz="0 0 0" rpy="0 -0 0" />      
      <geometry>        
        <mesh filename="../assemblies/right_3R+RH5_leg/meshes/right_12lf_rod_collision.stl" />        
      </geometry>      
    </collision>    
    <inertial>      
      <origin xyz="-6.3222084033089920026e-07 4.6933255135528111117e-07 -0.01289338733433115225" rpy="0 0 0" />      
      <mass value="0.0025088292483592140175" />      
      <inertia ixx="2.6944521128608443771e-07" ixy="7.1389570292485185665e-15" ixz="1.3562243131395616268e-11" iyy="2.6944520001664999355e-07" iyz="-1.0089988374103258441e-11" izz="1.7809843599861015564e-08" />      
    </inertial>    
  </link>  

  <joint name="right_ank_act1" type="prismatic">    
    <origin xyz="2.2722093427881076555e-06 1.3183898417423733918e-15 -0.072674213012081267937" rpy="-3.1415926535897806815 9.5856772270727916853e-15 -2.2021168238260924177" />    
    <parent link="12lf_3" />    
    <child link="12lf_rod_3" />    
    <axis xyz="0 0 1" />    
    <limit effort="1" velocity="20" lower="0" upper="0.040000000000000000833" />    
    <joint_properties friction="0.0" />    
  </joint>  

  <joint name="right_ank_B31" type="revolute">    
    <origin xyz="8.2399365108898336985e-18 -0.006438750500400436394 2.5673907444456744997e-16" rpy="-1.570796326794896558 -0.0053985248578861414967 1.6676878818581557235e-16" />    
    <parent link="ball_joint_ball_3" />    
    <child link="12lf_3" />    
    <axis xyz="0 0 1" />    
    <limit effort="1" velocity="20" lower="-0.785398163397448279" upper="0.785398163397448279" />    
    <joint_properties friction="0.0" />    
  </joint>  

  <joint name="right_ank_B21" type="revolute">    
    <origin xyz="0 0 -0.011499999999999996336" rpy="1.570796326794896558 -1.4274442472645434421 1.5707963267948954478" />    
    <parent link="ball_joint_container_3" />    
    <child link="ball_joint_ball_3" />    
    <axis xyz="0 0 1" />    
    <limit effort="1" velocity="20" lower="-0.785398163397448279" upper="0.785398163397448279" />    
    <joint_properties friction="0.0" />    
  </joint>  

  <joint name="right_ank_B11" type="revolute">    
    <origin xyz="0.008000000000000003636 0.015000000000000013323 -0.01150000000000000501" rpy="1.57079632679489678 -1.4686187149913361161 -1.5707963267948945596" />    
    <parent link="right_calf_link" />    
    <child link="ball_joint_container_3" />    
    <axis xyz="0 0 1" />    
    <limit effort="1" velocity="20" lower="-0.785398163397448279" upper="0.785398163397448279" />    
    <joint_properties friction="0.0" />    
  </joint>  

  <link name="ball_joint_container_4">    
    <visual>      
      <origin xyz="0 0 0" rpy="0 -0 0" />      
      <geometry>        
        <mesh filename="../assemblies/right_3R+RH5_leg/meshes/right_ball_joint_container_2_visual.stl" />        
      </geometry>      
      <material name="ball_joint_container_2_material">        
        <color rgba="0.61568627450980395466 0.81176470588235294379 0.92941176470588238168 1.0" />        
      </material>      
    </visual>    
    <collision>      
      <origin xyz="0 0 0" rpy="0 -0 0" />      
      <geometry>        
        <mesh filename="../assemblies/right_3R+RH5_leg/meshes/right_ball_joint_container_2_collision.stl" />        
      </geometry>      
    </collision>    
    <inertial>      
      <origin xyz="4.7221442975711206464e-19 2.7634000224782004017e-17 -0.0097125341669083431473" rpy="0 0 0" />      
      <mass value="4.803735642533054869e-05" />      
      <inertia ixx="7.1865480628741666366e-10" ixy="1.0252266721523252213e-26" ixz="-1.0860167223587451485e-38" iyy="8.475420427718555978e-10" iyz="-4.8393596154155851099e-39" izz="1.8625314111651911712e-10" />      
    </inertial>    
  </link>  

  <link name="ball_joint_ball_4">    
    <visual>      
      <origin xyz="0 0 0" rpy="0 -0 0" />      
      <geometry>        
        <mesh filename="../assemblies/right_3R+RH5_leg/meshes/right_ball_joint_ball_2_visual.stl" />        
      </geometry>      
      <material name="ball_joint_ball_2_material">        
        <color rgba="0.3291302810242056065 0.44310466418644928188 0.69204871161977121741 1.0" />        
      </material>      
    </visual>    
    <collision>      
      <origin xyz="0 0 0" rpy="0 -0 0" />      
      <geometry>        
        <mesh filename="../assemblies/right_3R+RH5_leg/meshes/right_ball_joint_ball_2_collision.stl" />        
      </geometry>      
    </collision>    
    <inertial>      
      <origin xyz="5.0941697801840291577e-18 -0.0010308669810016504297 -6.4729600917583919283e-18" rpy="0 0 0" />      
      <mass value="4.4053796295264630609e-05" />      
      <inertia ixx="3.1285011349692525504e-10" ixy="1.1319973206775294355e-25" ixz="-1.7080104132990967035e-27" iyy="6.2569568612795566352e-11" iyz="6.0489020233327418607e-26" izz="3.1285321460376421318e-10" />      
    </inertial>    
  </link>  

  <link name="12lf_4">    
    <visual>      
      <origin xyz="0 0 0" rpy="0 -0 0" />      
      <geometry>        
        <mesh filename="../assemblies/right_3R+RH5_leg/meshes/right_12lf_2_visual.stl" />        
      </geometry>      
      <material name="12lf_2_material">        
        <color rgba="0.62004392100736027693 0.58836684613512624242 0.49897069021535683797 1.0" />        
      </material>      
    </visual>    
    <collision>      
      <origin xyz="0 0 0" rpy="0 -0 0" />      
      <geometry>        
        <mesh filename="../assemblies/right_3R+RH5_leg/meshes/right_12lf_2_collision.stl" />        
      </geometry>      
    </collision>    
    <inertial>      
      <origin xyz="0.0049084207243654453742 -0.00013802439943710122531 -0.029947003577146649733" rpy="0 0 0" />      
      <mass value="0.044782197696050358993" />      
      <inertia ixx="1.5260128421312148039e-05" ixy="2.2955773686778089867e-08" ixz="-8.1364204008300008389e-08" iyy="1.8188469778949555977e-05" iyz="-5.5542240843716263081e-08" izz="5.1496273901724028008e-06" />      
    </inertial>    
  </link>  

  <link name="12lf_rod_4">    
    <visual>      
      <origin xyz="0 0 0" rpy="0 -0 0" />      
      <geometry>        
        <mesh filename="../assemblies/right_3R+RH5_leg/meshes/right_12lf_rod_2_visual.stl" />        
      </geometry>      
      <material name="12lf_rod_2_material">        
        <color rgba="0.80250260812861884396 0.89340612183512713163 0.94491811293548189088 1.0" />        
      </material>      
    </visual>    
    <collision>      
      <origin xyz="0 0 0" rpy="0 -0 0" />      
      <geometry>        
        <mesh filename="../assemblies/right_3R+RH5_leg/meshes/right_12lf_rod_2_collision.stl" />        
      </geometry>      
    </collision>    
    <inertial>      
      <origin xyz="-6.3222084084173862976e-07 4.6933255090074846154e-07 -0.012893387334333228714" rpy="0 0 0" />      
      <mass value="0.0025088292483592140175" />      
      <inertia ixx="2.6944521128596934711e-07" ixy="7.1389570314206959784e-15" ixz="1.3562243144867532088e-11" iyy="2.6944520001653485001e-07" iyz="-1.008998836117697971e-11" izz="1.7809843599861015564e-08" />      
    </inertial>    
  </link>  

  <joint name="right_ank_act2" type="prismatic">    
    <origin xyz="2.2722093417481409316e-06 -2.4008572907519010187e-15 -0.072674224000375264865" rpy="3.1415926535897922278 -4.7750794099672222252e-16 -2.2021168238262847083" />    
    <parent link="12lf_4" />    
    <child link="12lf_rod_4" />    
    <axis xyz="0 0 1" />    
    <limit effort="1" velocity="20" lower="0" upper="0.040000000000000000833" />    
    <joint_properties friction="0.0" />    
  </joint>  

  <joint name="right_ank_B32" type="revolute">    
    <origin xyz="1.0408340855860842566e-17 -0.006438750500400436394 0" rpy="-1.57079632679489678 -0.0053985248581224047626 2.4993140229822924443e-16" />    
    <parent link="ball_joint_ball_4" />    
    <child link="12lf_4" />    
    <axis xyz="0 0 1" />    
    <limit effort="1" velocity="20" lower="-0.785398163397448279" upper="0.785398163397448279" />    
    <joint_properties friction="0.0" />    
  </joint>  

  <joint name="right_ank_B22" type="revolute">    
    <origin xyz="-9.0205620750793968909e-17 -5.5511151231257827021e-16 -0.011500000000000809922" rpy="1.5707963267949021091 -1.4274442651029393136 1.5707963267948958919" />    
    <parent link="ball_joint_container_4" />    
    <child link="ball_joint_ball_4" />    
    <axis xyz="0 0 1" />    
    <limit effort="1" velocity="20" lower="-0.785398163397448279" upper="0.785398163397448279" />    
    <joint_properties friction="0.0" />    
  </joint>  

  <joint name="right_ank_B12" type="revolute">    
    <origin xyz="0.0079999999999990304561 0.015000000000000374145 0.028300000000000304079" rpy="-1.570796326794896558 -1.4687412243800435085 1.5707963267949029973" />    
    <parent link="right_calf_link" />    
    <child link="ball_joint_container_4" />    
    <axis xyz="0 0 1" />    
    <limit effort="1" velocity="20" lower="-0.785398163397448279" upper="0.785398163397448279" />    
    <joint_properties friction="0.0" />    
  </joint>  

  <joint name="right_knee" type="revolute">    
    <origin xyz="-2.4092426568589641265e-15 0.095999999999999835465 0.027399999999999306854" rpy="3.1415926535897913396 -1.687018580240030462e-16 3.1415926535897922278" />    
    <parent link="right_hip_pitch_link" />    
    <child link="right_calf_link" />    
    <axis xyz="0 0 1" />    
    <limit effort="1" velocity="20" lower="-1.570796326794896558" upper="1.570796326794896558" />    
    <joint_properties friction="0.0" />    
  </joint>  

  <joint name="right_hip_pitch" type="revolute">    
    <origin xyz="-0.024000000716145983293 -0.019000000152457983266 -0.019000000152453771357" rpy="-1.5707963267951818853 1.5707963267947633312 0" />    
    <parent link="hip_roll_link_2" />    
    <child link="right_hip_pitch_link" />    
    <axis xyz="0 0 1" />    
    <limit effort="1" velocity="20" lower="-1.570796326794896558" upper="1.570796326794896558" />    
    <joint_properties friction="0.0" />    
  </joint>  

  <joint name="right_hip_roll" type="revolute">    
    <origin xyz="-0.018999999999999881567 -3.3500438889881561489e-18 -0.026000000000000002276" rpy="-4.6567077935502810538e-31 -1.5707963267948825692 0" />    
    <parent link="hip_yaw_link_2" />    
    <child link="hip_roll_link_2" />    
    <axis xyz="0 0 1" />    
    <limit effort="1" velocity="20" lower="-1.570796326794896558" upper="1.570796326794896558" />    
    <joint_properties friction="0.0" />    
  </joint>  


</robot>
